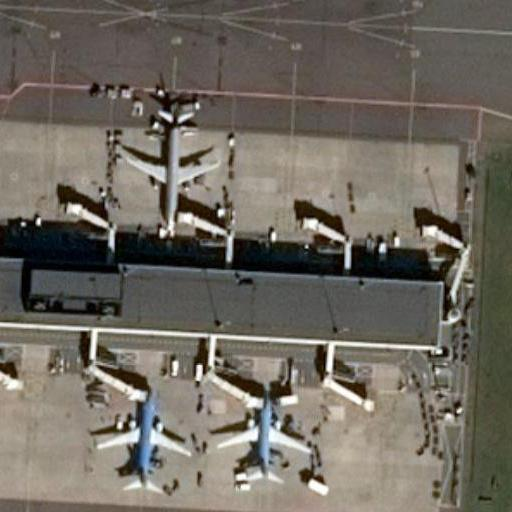Aircraft: (117, 92, 226, 227), (91, 382, 189, 492), (213, 381, 313, 484)
